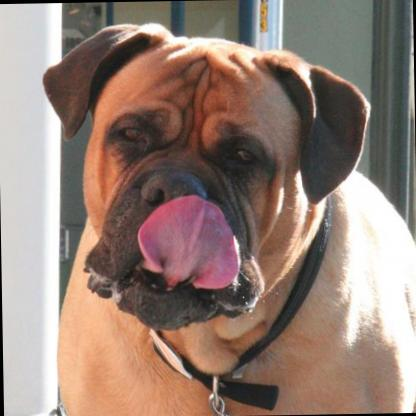bull_mastiff: (39, 12, 416, 416)
